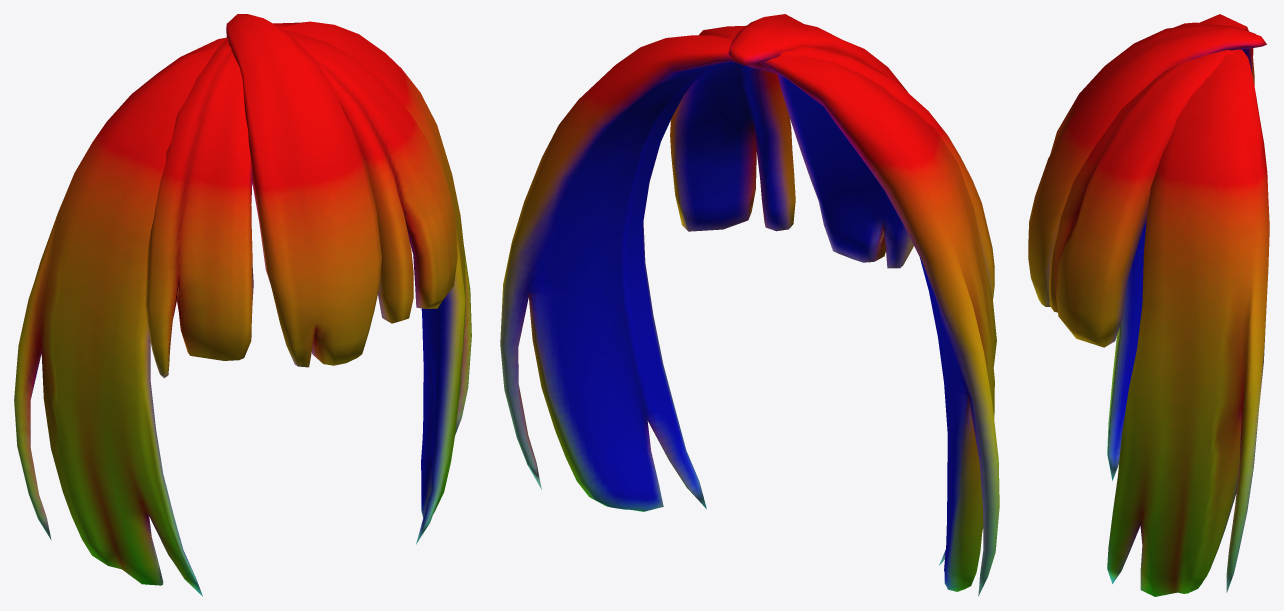
File: HairFront_StreightCut.obj
3 views of the same model, side by side, from view 1: azimuth 30°, elevation 25°; view 2: azimuth 150°, elevation 25°; view 3: azimuth 270°, elevation 25° (orthographic). The views are drawn at different scales.
Visible parts, largest first — view 1: HairFront_StreightCut_0; view 2: HairFront_StreightCut_0; view 3: HairFront_StreightCut_0.
Part boxes in pixels (x1=…): HairFront_StreightCut_0: x1=14, y1=14, x2=471, y2=596; HairFront_StreightCut_0: x1=500, y1=14, x2=999, y2=596; HairFront_StreightCut_0: x1=1028, y1=14, x2=1269, y2=596.
Size of the model in its own units: 0.2374 by 0.2527 by 0.1096.
Materials: 1 (1 with a texture image).
